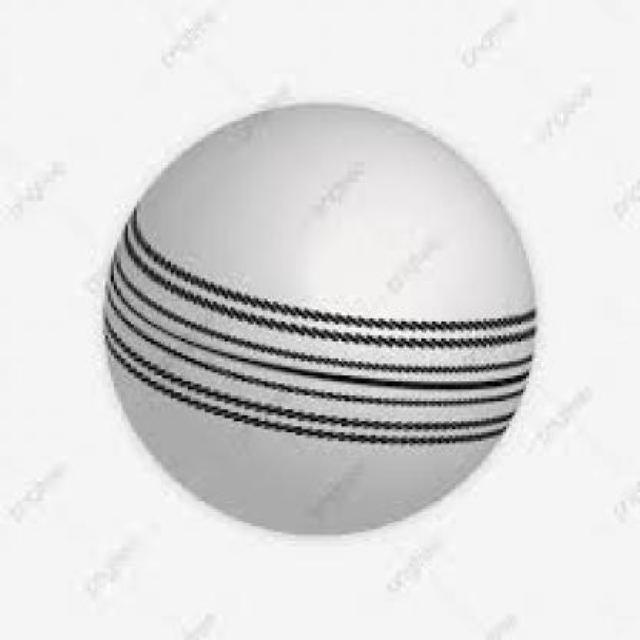ball: (76, 82, 560, 544)
